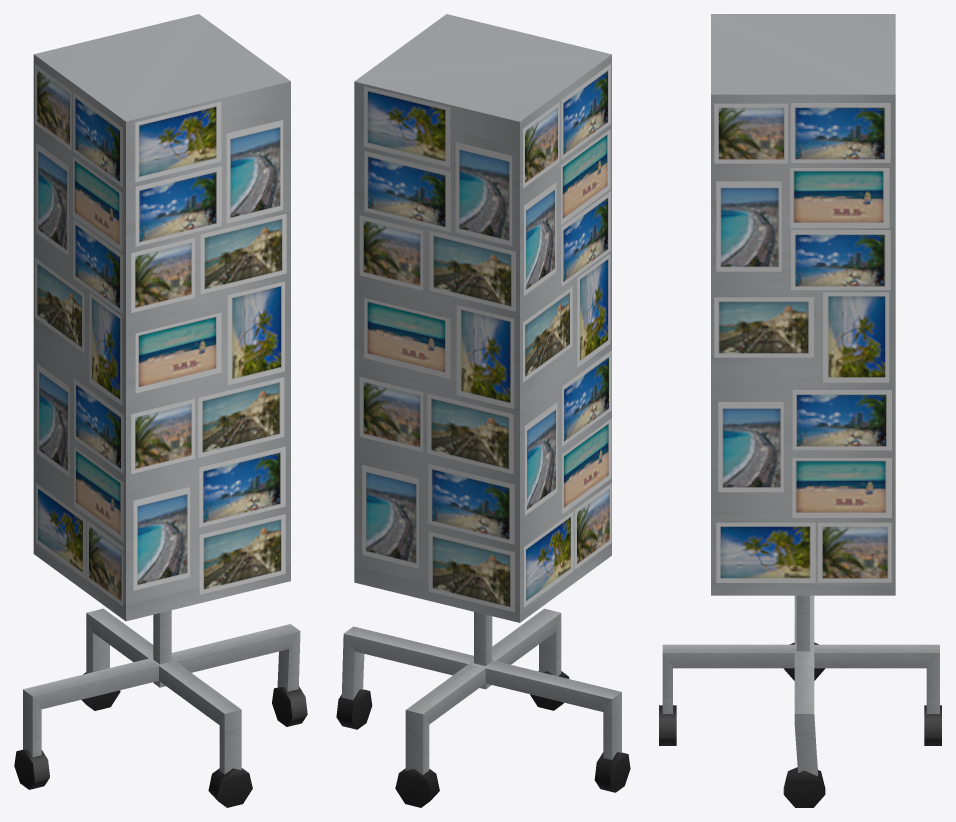
Rendered from Postcard_Rack_01.FBX.
3 views of the same model, side by side, from view 1: azimuth 30°, elevation 25°; view 2: azimuth 150°, elevation 25°; view 3: azimuth 270°, elevation 25° (orthographic).
Visible parts, largest first — view 1: Postcard_Rack_01; view 2: Postcard_Rack_01; view 3: Postcard_Rack_01.
Boxes of the visible parts, x1,y1,x2,y2 form: Postcard_Rack_01: (14,14,307,807); Postcard_Rack_01: (336,14,630,807); Postcard_Rack_01: (659,14,941,807).
Bounding box in the file's own units: 0.5277 × 0.4728 × 1.27.
